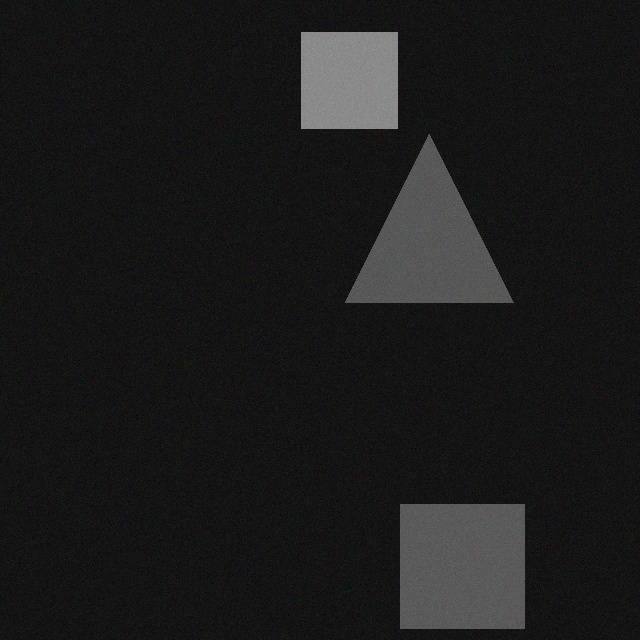square: (407, 496, 531, 620), (308, 24, 404, 120)
triangle: (352, 126, 520, 294)
